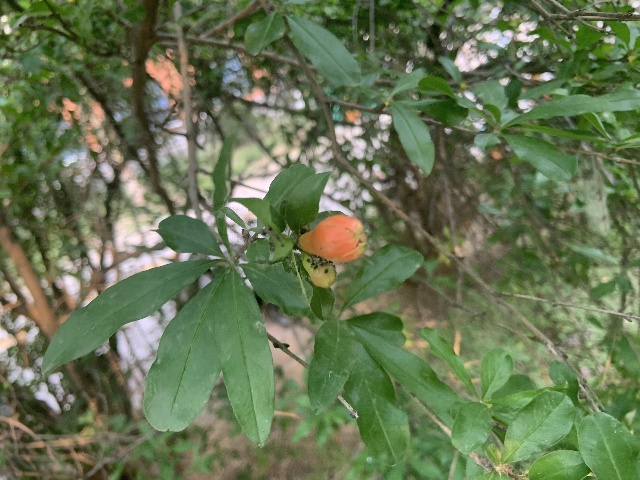bud: (298, 215, 366, 262), (301, 255, 336, 288)
